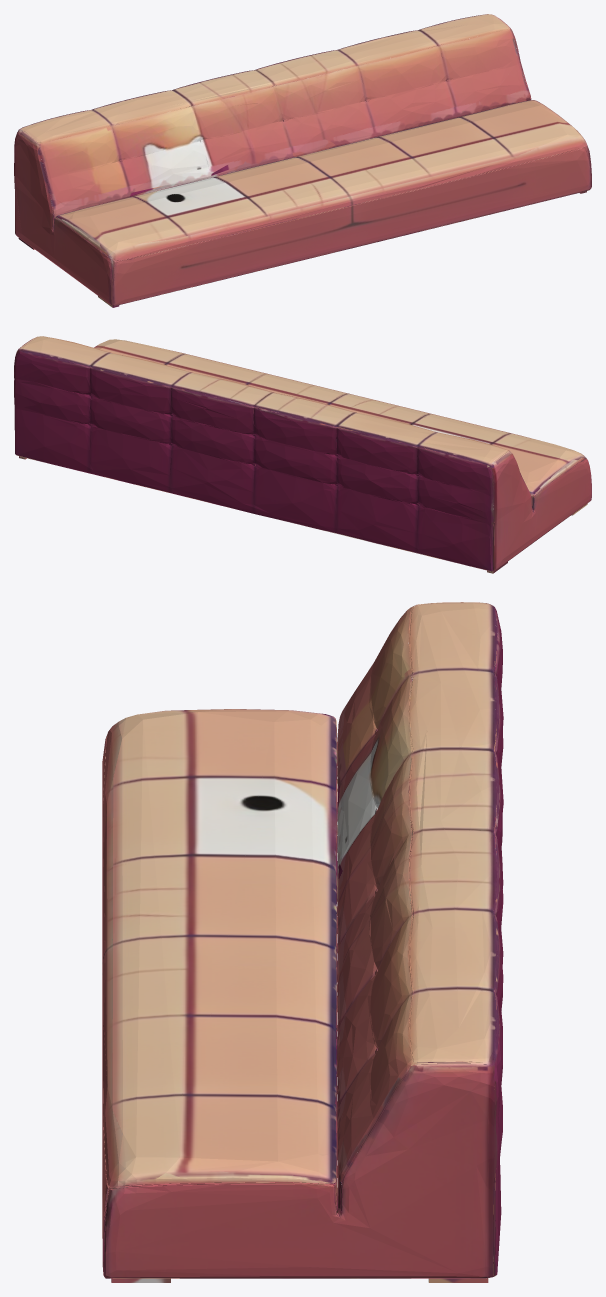
The model's file is edited_mesh.glb.
3 renders of one model, top to bottom at view 1: azimuth 30°, elevation 25°; view 2: azimuth 150°, elevation 25°; view 3: azimuth 270°, elevation 25°, orthographic. The views are drawn at different scales.
Parts seen in each view (by area): view 1: solid_001_wire; view 2: solid_001_wire; view 3: solid_001_wire.
Part boxes in pixels (x1=…): solid_001_wire: x1=14, y1=14, x2=591, y2=307; solid_001_wire: x1=14, y1=336, x2=591, y2=573; solid_001_wire: x1=102, y1=602, x2=503, y2=1282.
Size of the model in its own units: 2 by 0.4446 by 0.7213.
1 material, 1 textured.
